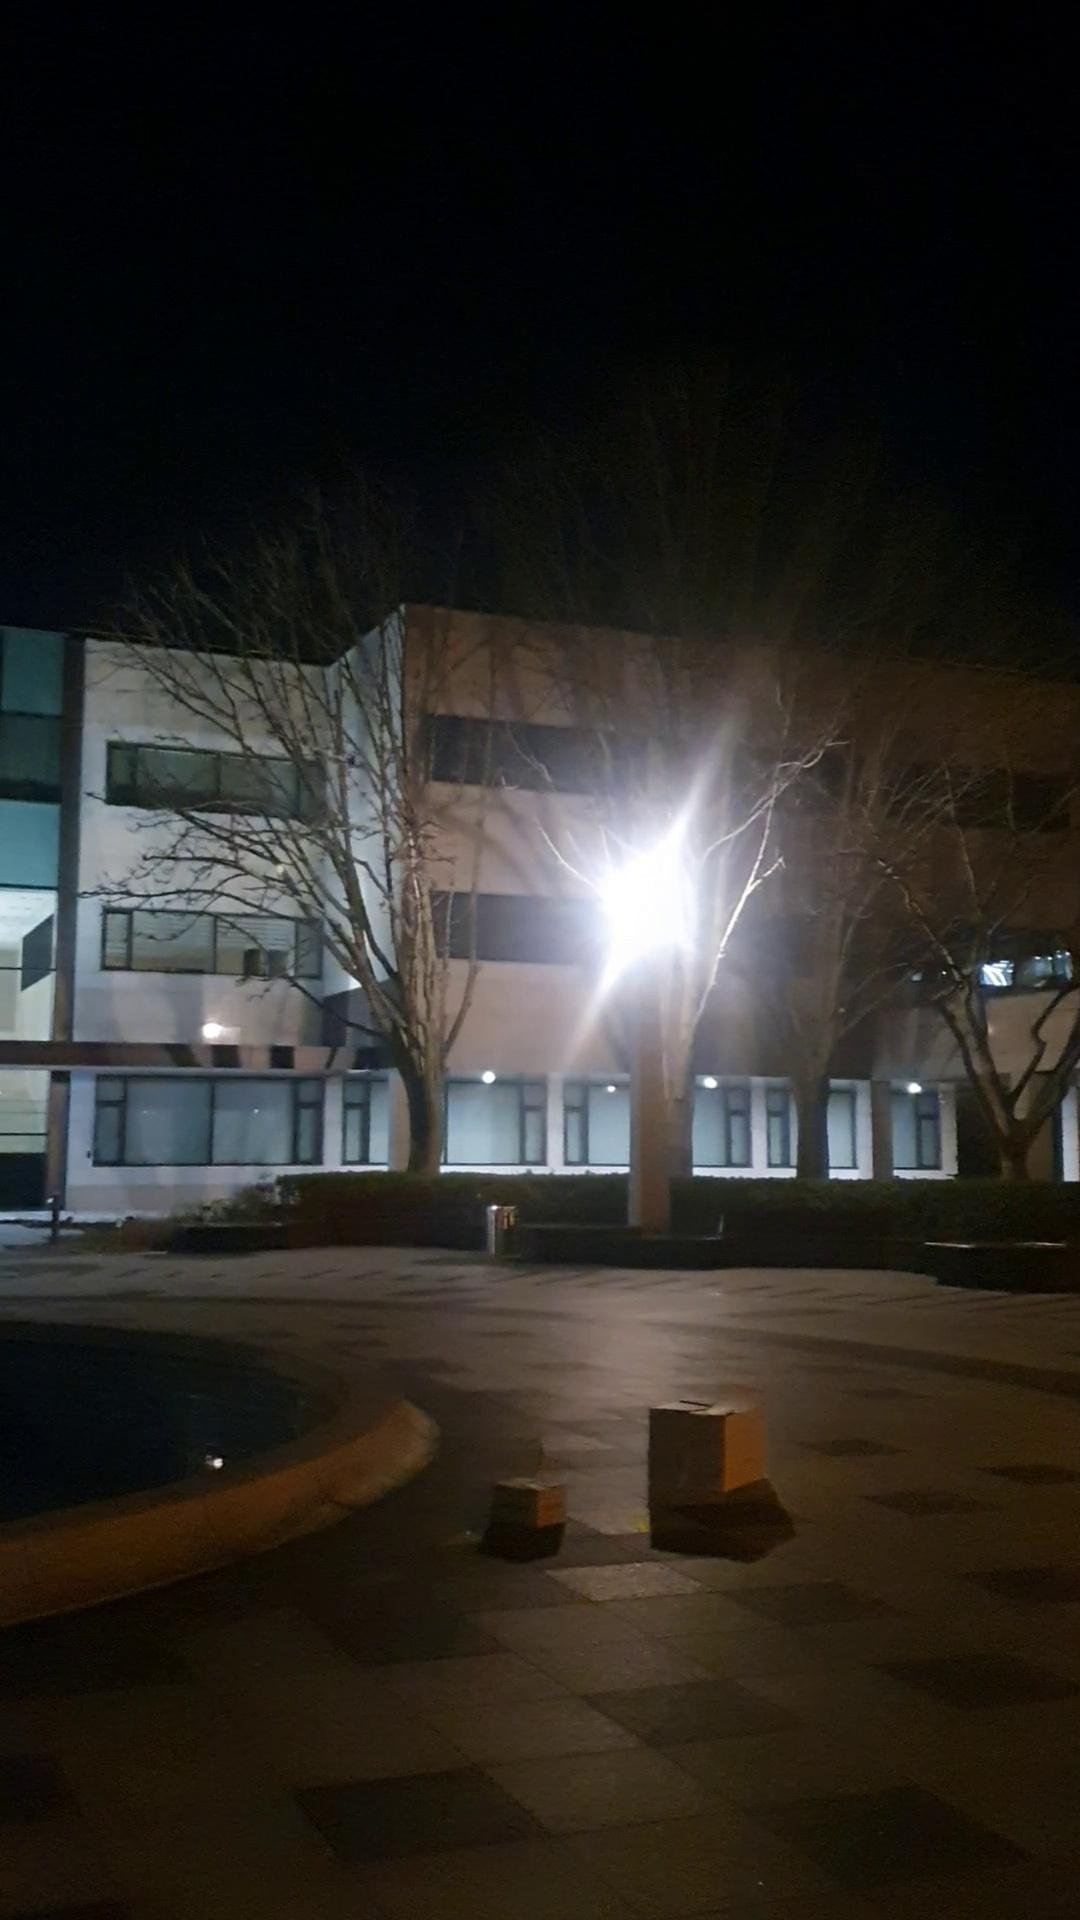Box: (644, 1379, 777, 1516), (491, 1465, 570, 1535)
